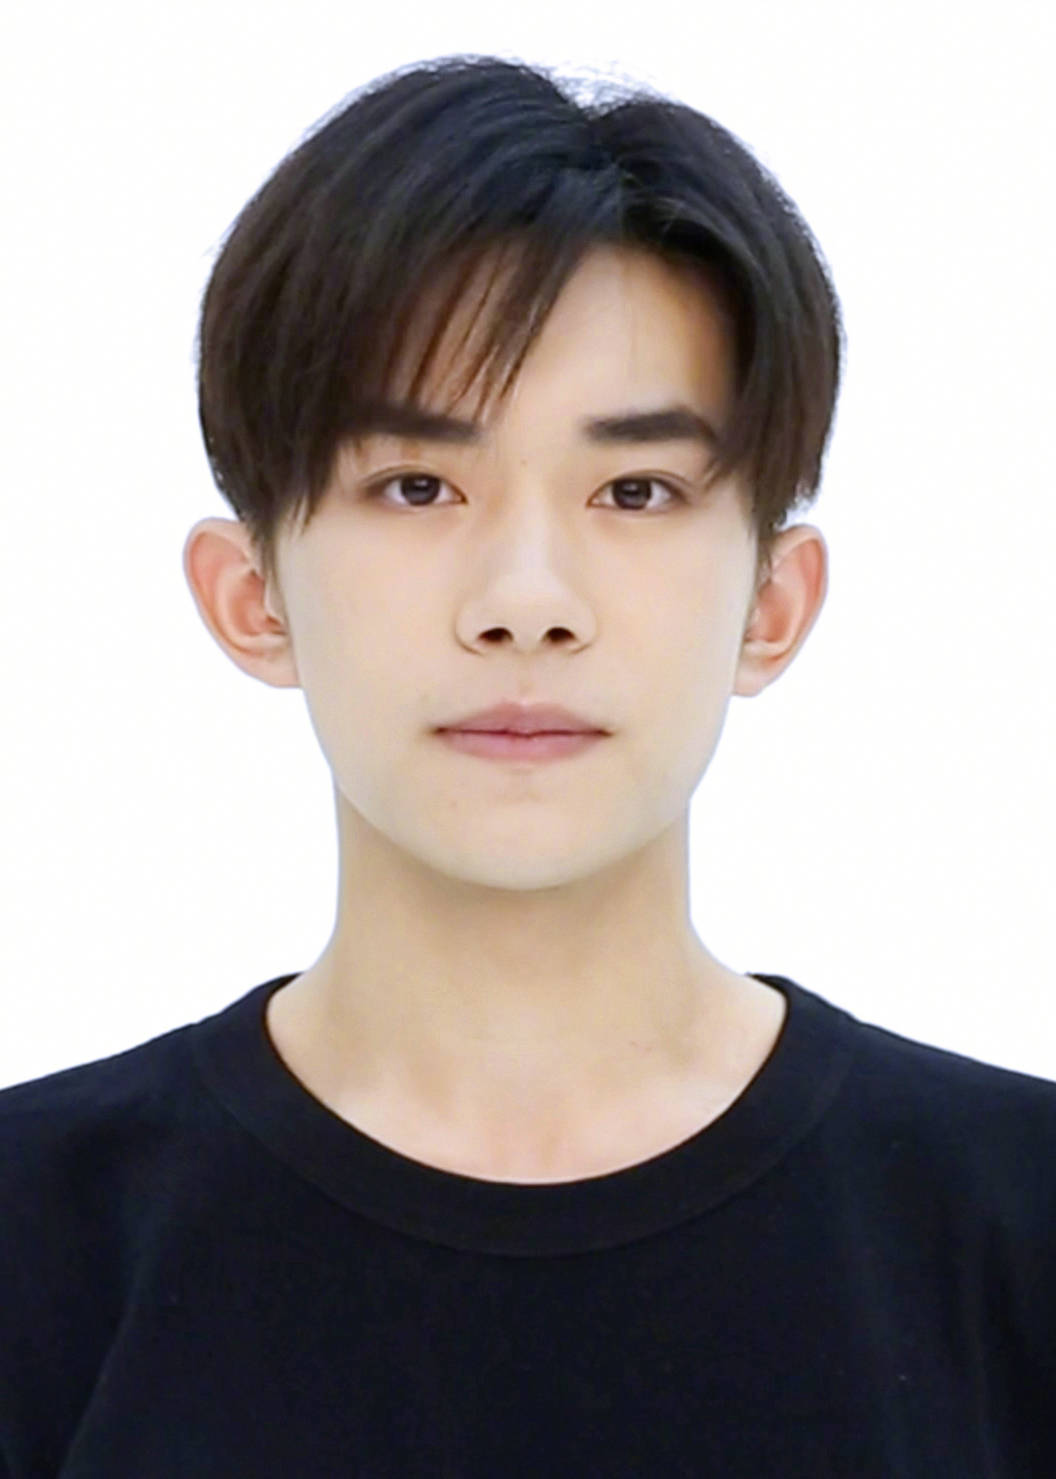unmask: (277, 329, 787, 859)
